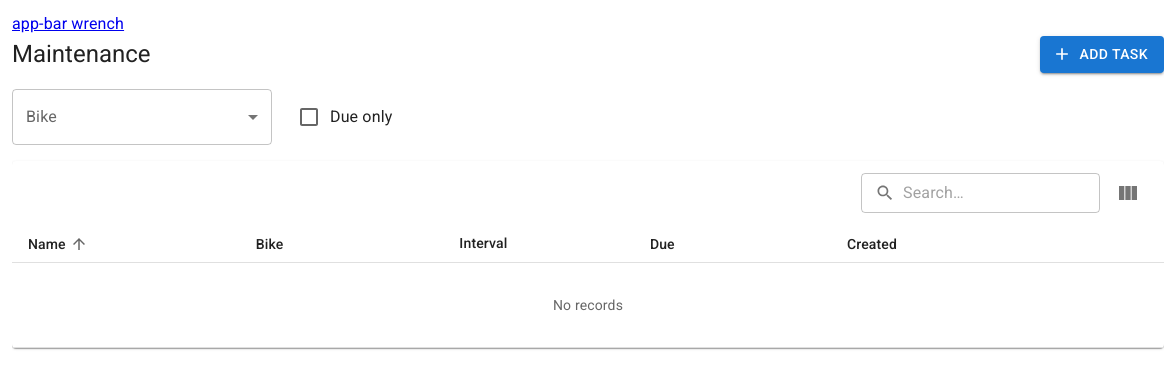
Test case: MaintenanceList › checks "Due only" when ?due=1 arrives while the list is already mounted
Expected: the checkbox labelled "Due only" is not checked, [297,104,392,128]
Click the link "app-bar wrench" at (68, 24), box [12,14,124,33]
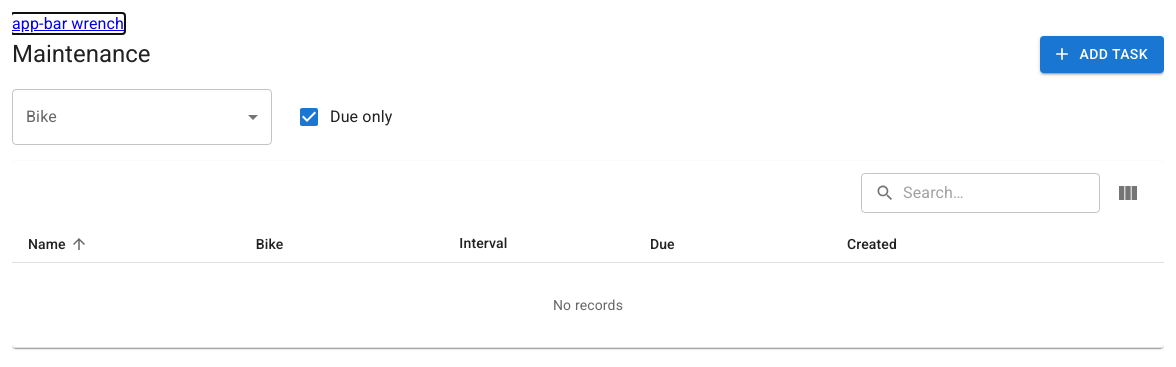
Result: the checkbox labelled "Due only" is checked at [297,104,392,128]
